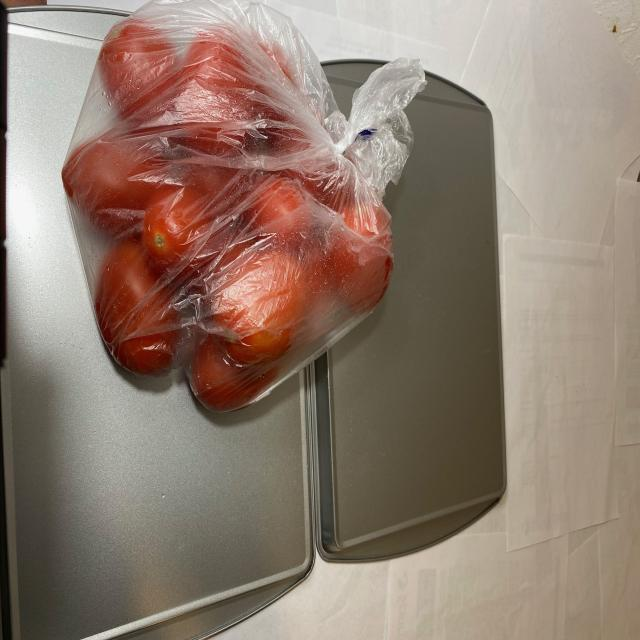tomato: (64, 9, 393, 414)
